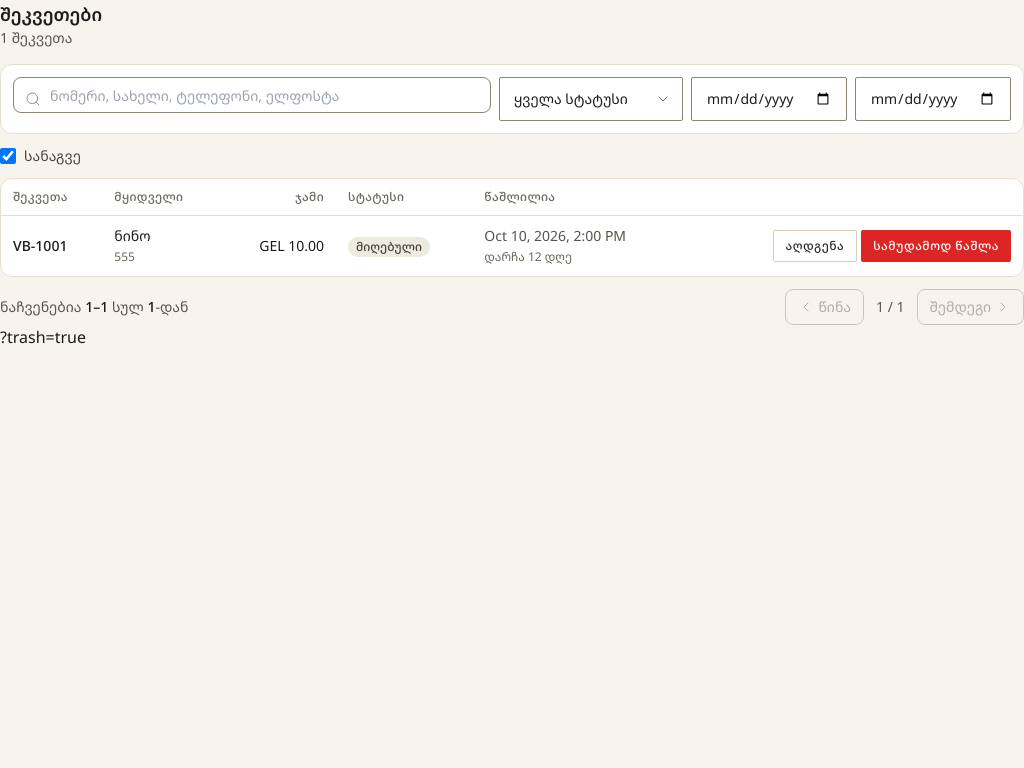
Test: OrderList row actions in the trash › keeps the dialog open with an alert under the description on a network error
Click the button with aria-label "VB-1001 — სამუდამოდ წაშლა" at (936, 246), box [861, 230, 1011, 262]
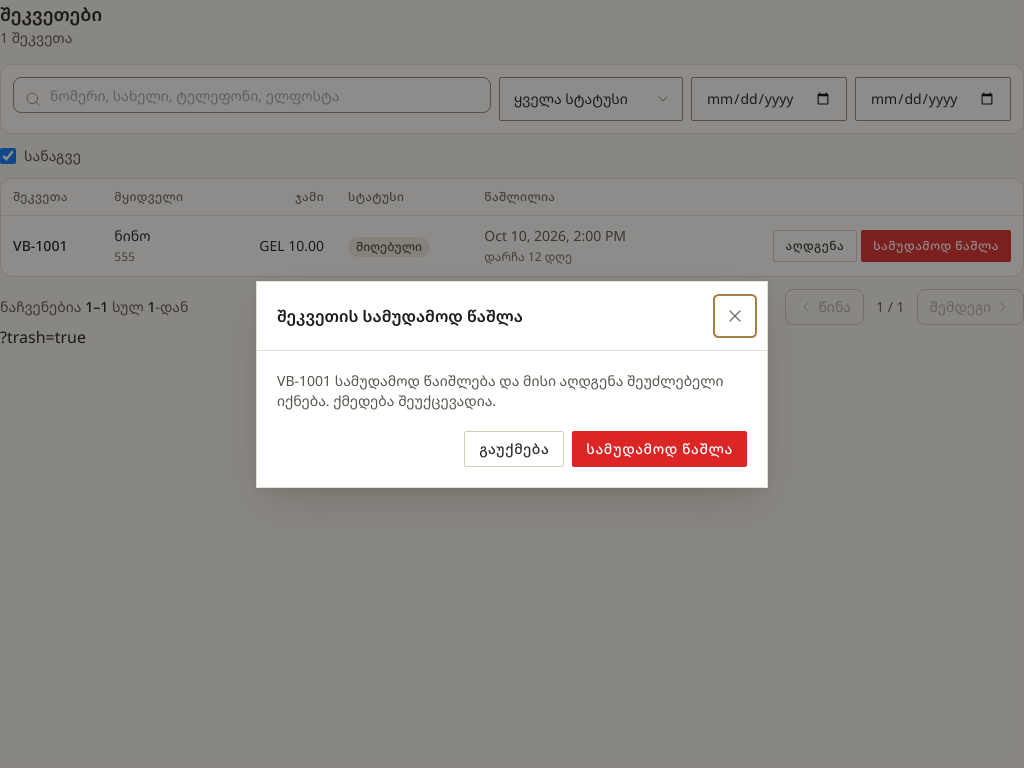
Click the button "სამუდამოდ წაშლა" at (660, 448), box [572, 430, 747, 466]
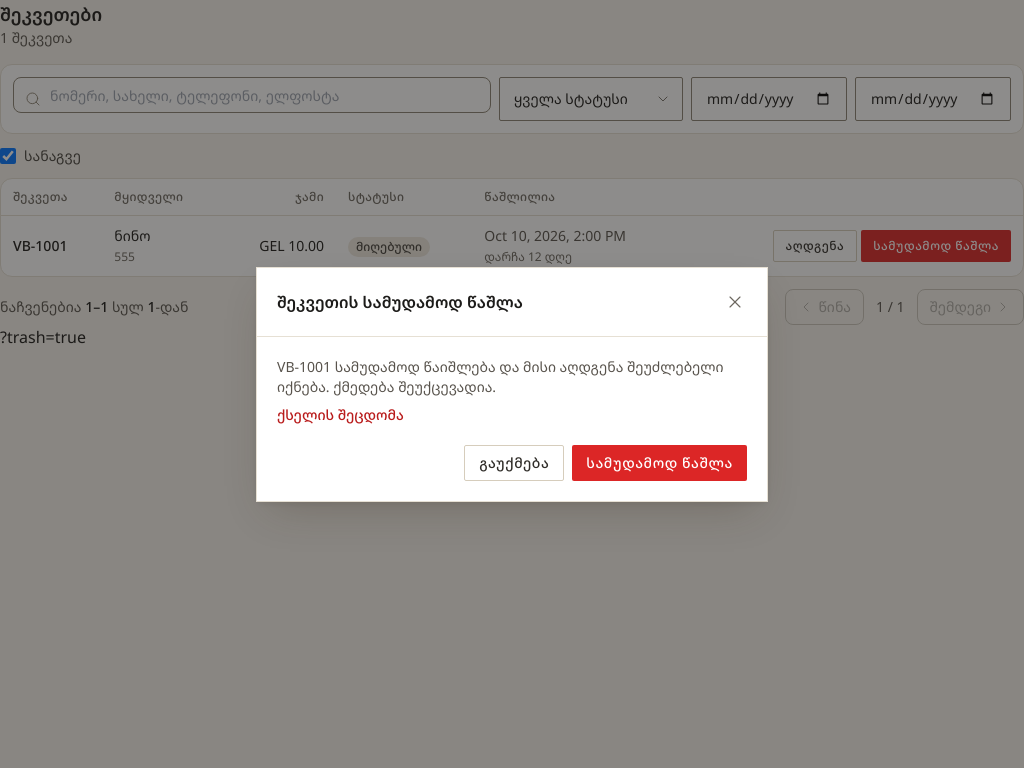
Expected: the text "ქმედება შეუქცევადია" is shown, [277, 356, 724, 396]
Expected: the button "სამუდამოდ წაშლა" is enabled, [572, 444, 747, 480]
Expected: the message reads "ქსელის შეცდომა", [277, 404, 404, 424]
